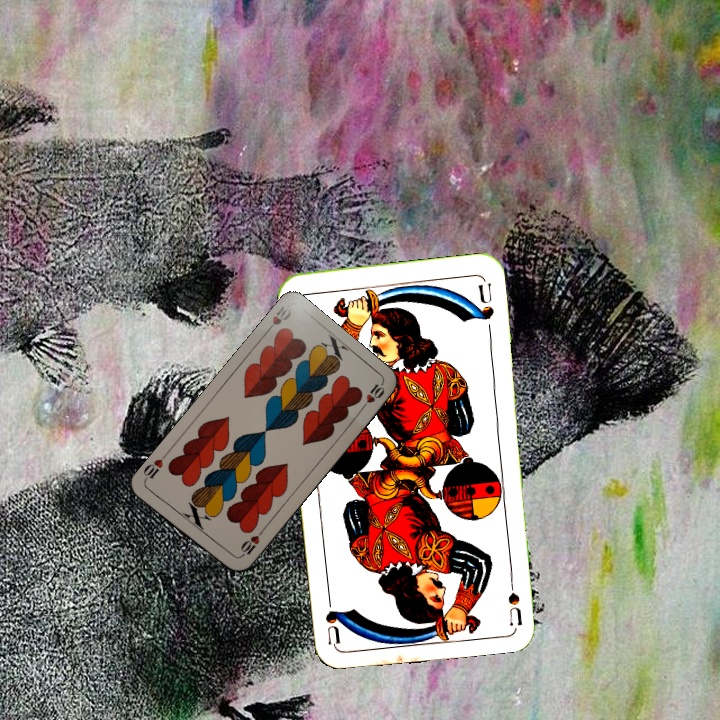H10: (260, 302, 294, 336), (235, 526, 266, 560)
SU: (503, 566, 524, 626)
